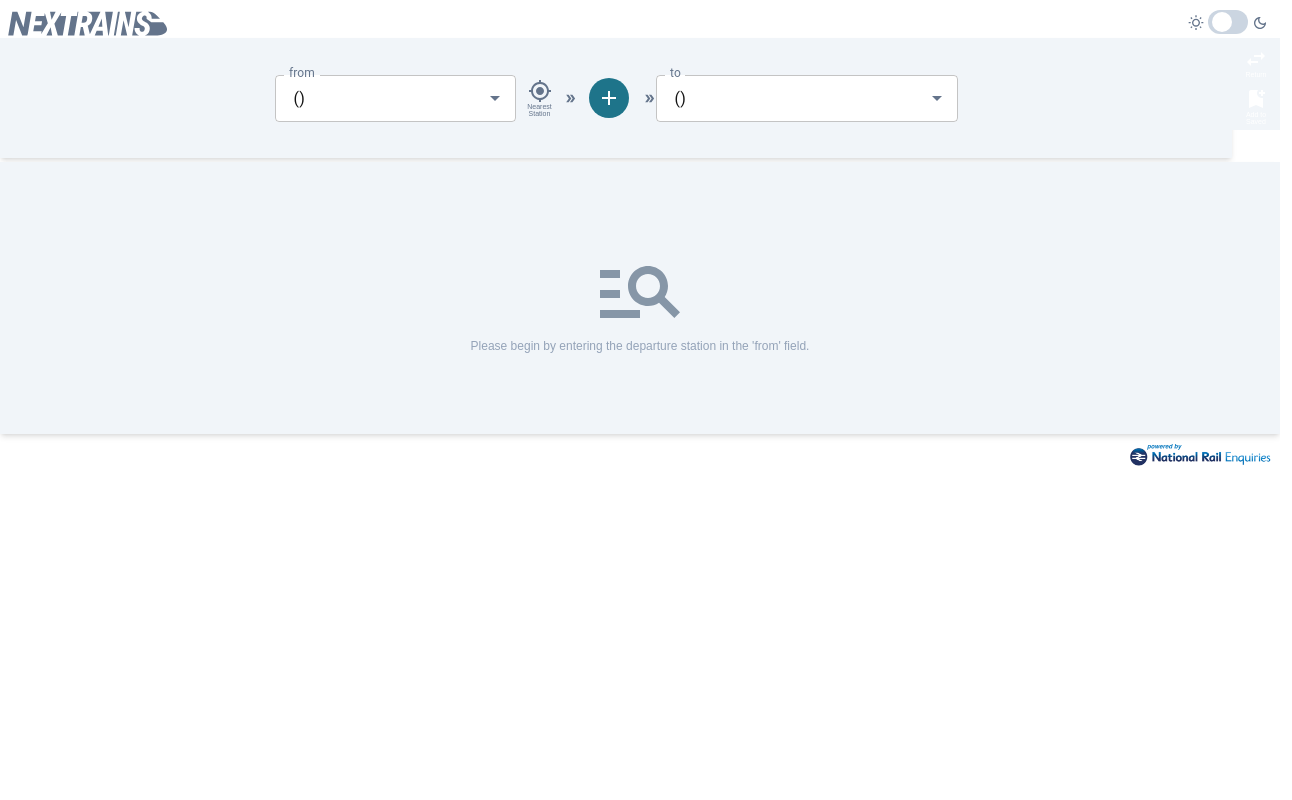
Test: nextrains › notice is shown
In the dropdown with id "from": point(368, 99) [284,84,451,113], type "Thatcham (THA)"
Then press Enter
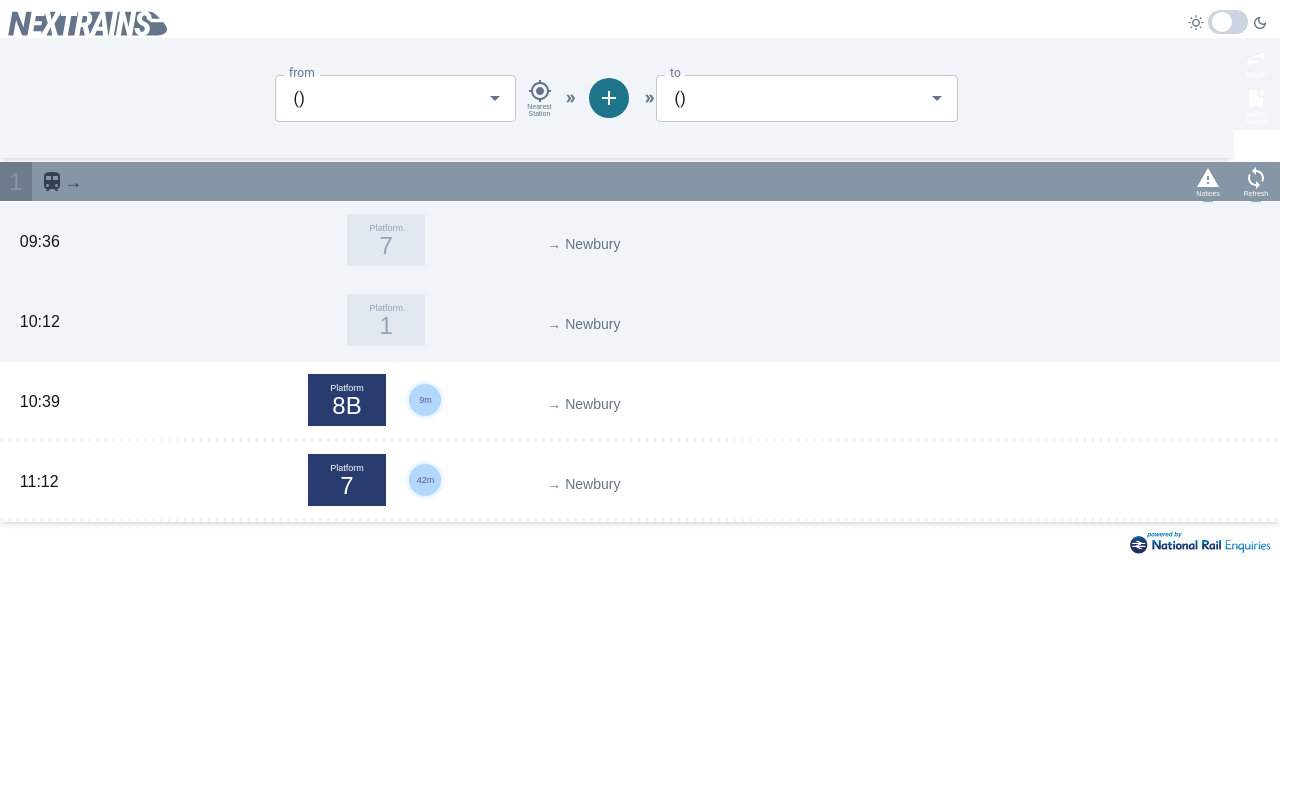
expect the button with aria-label "Show notices" is shown: met
Click the button with aria-label "Show notices": point(1208, 182) [1188,162,1228,202]
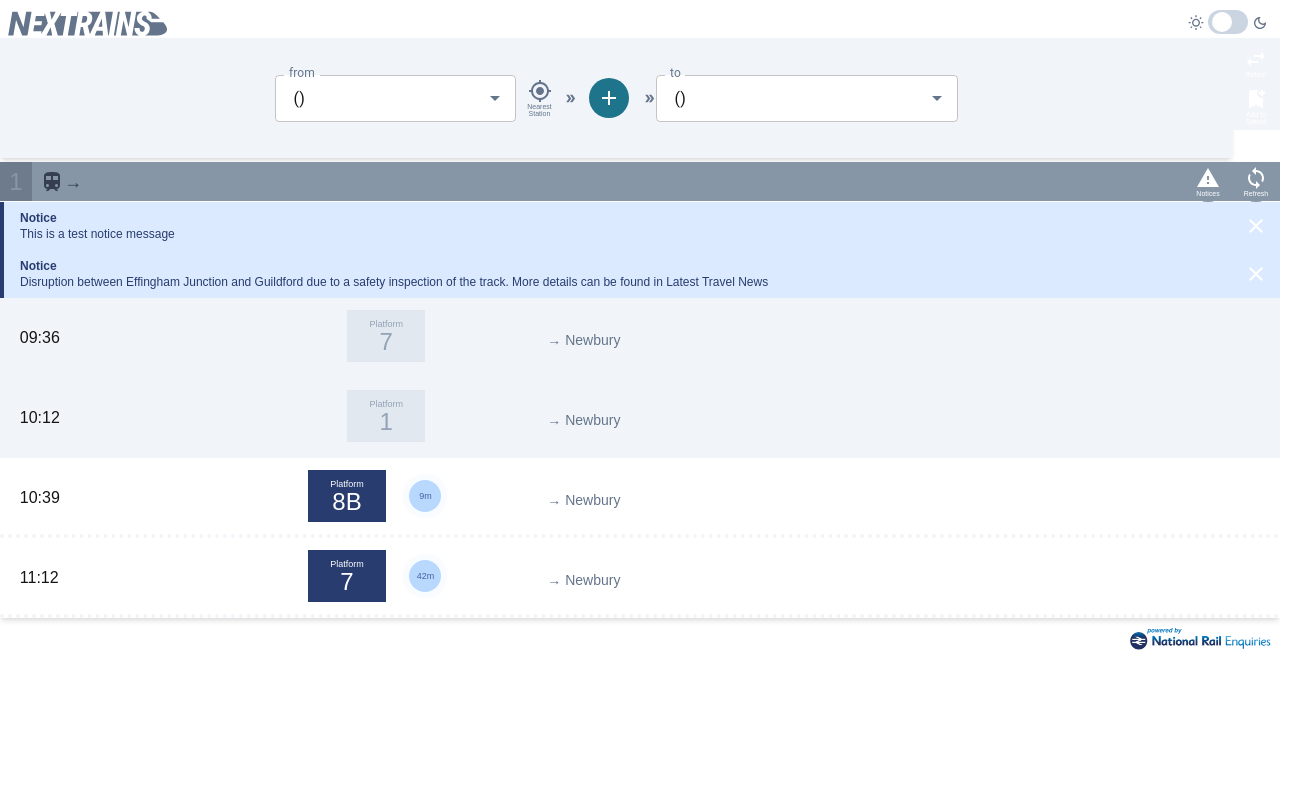
expect the text "This is a test notice message" is shown: met, box [20,227,175,241]
